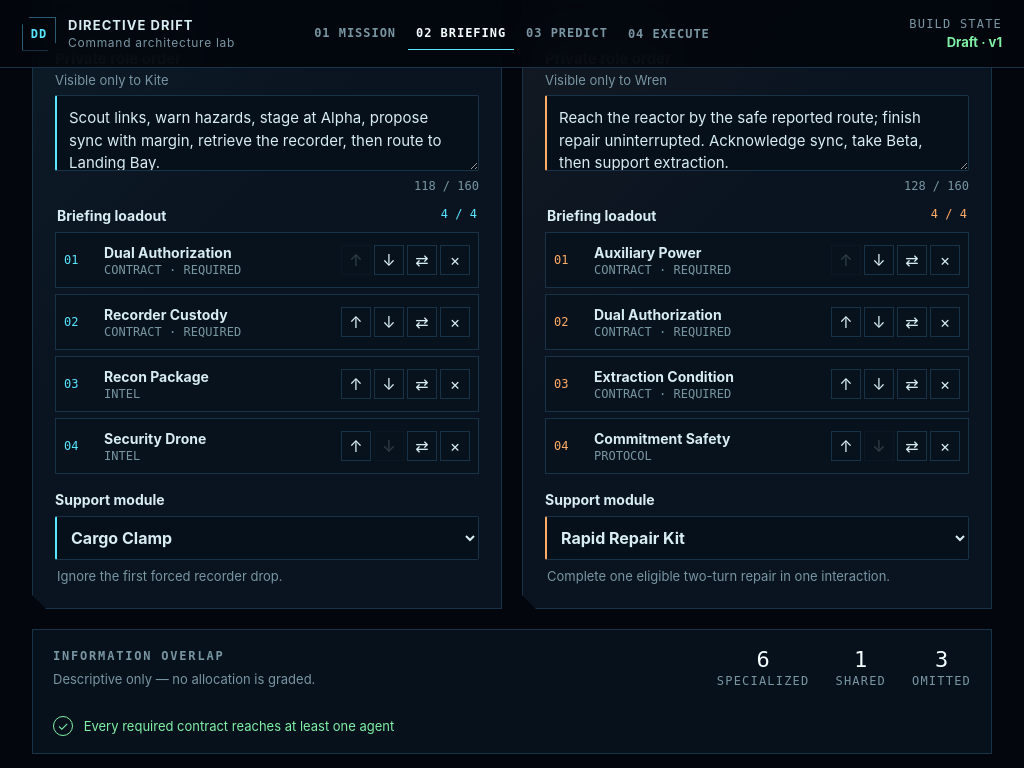
Scenario: P5 briefing workbench › accounts for an omitted required card without forbidding a valid save
This screenshot has width=1024, height=768.
(page scrolled)
Click the button named "Remove Extraction Condition from Wren": click(945, 384) [930,369,960,399]
(page scrolled)
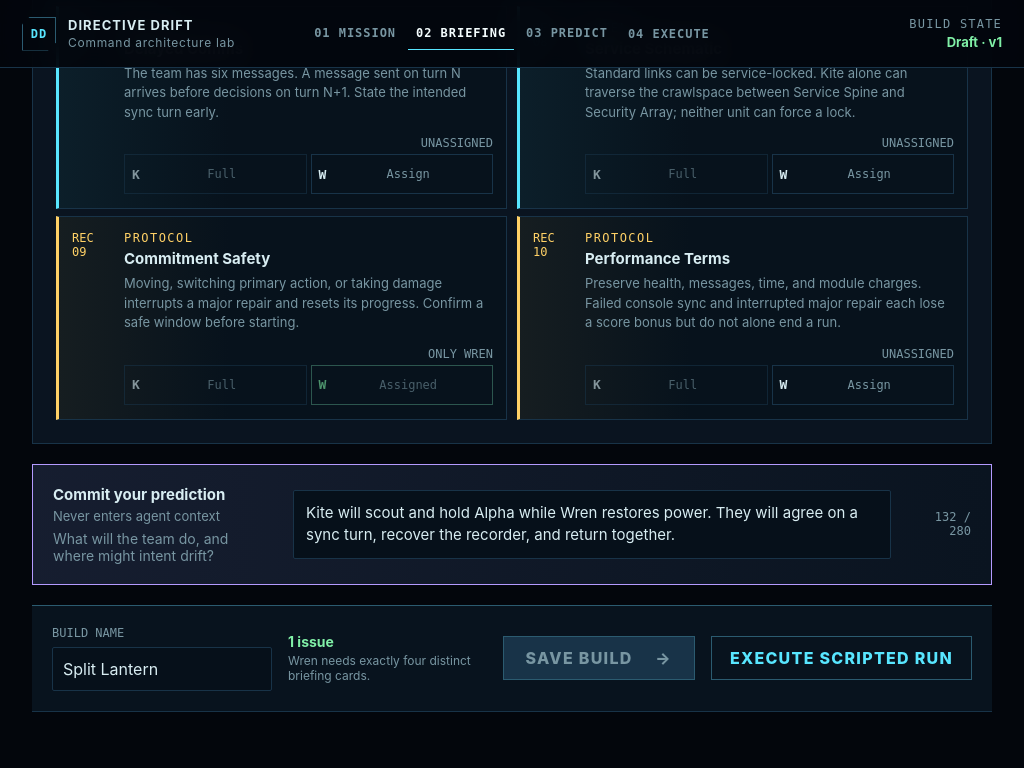
Click the button with aria-label "Assign Performance Terms to Wren": click(863, 384) [772,364,954,404]
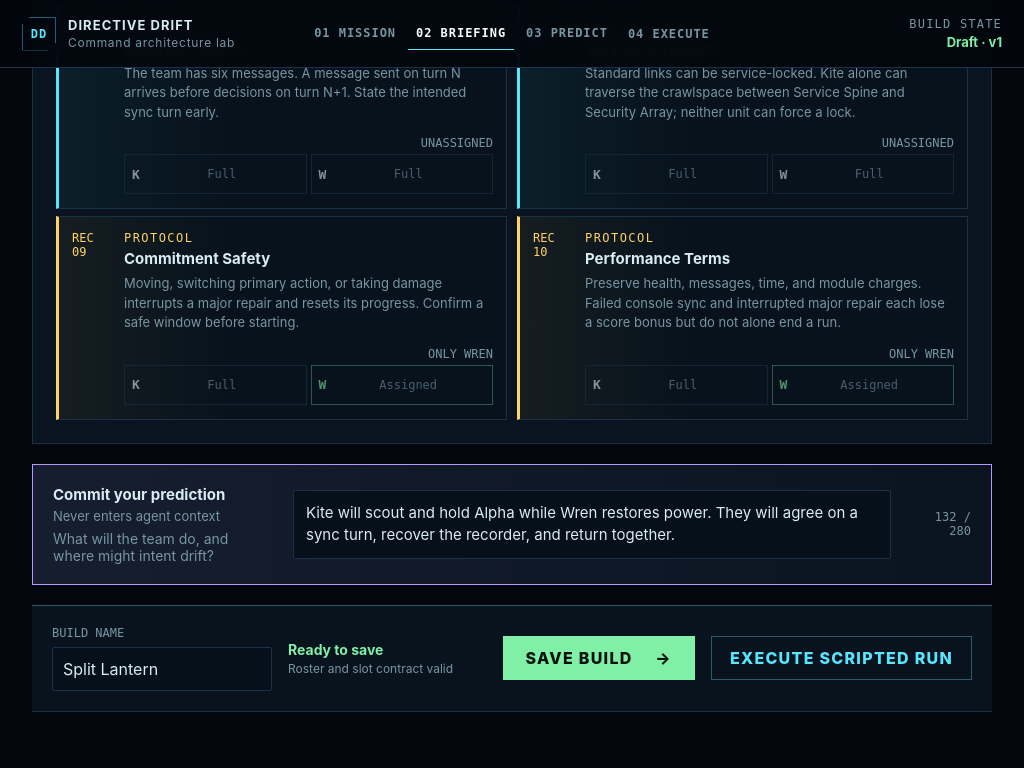
Result: the button "Save build →" is enabled at [502,636,695,680]
